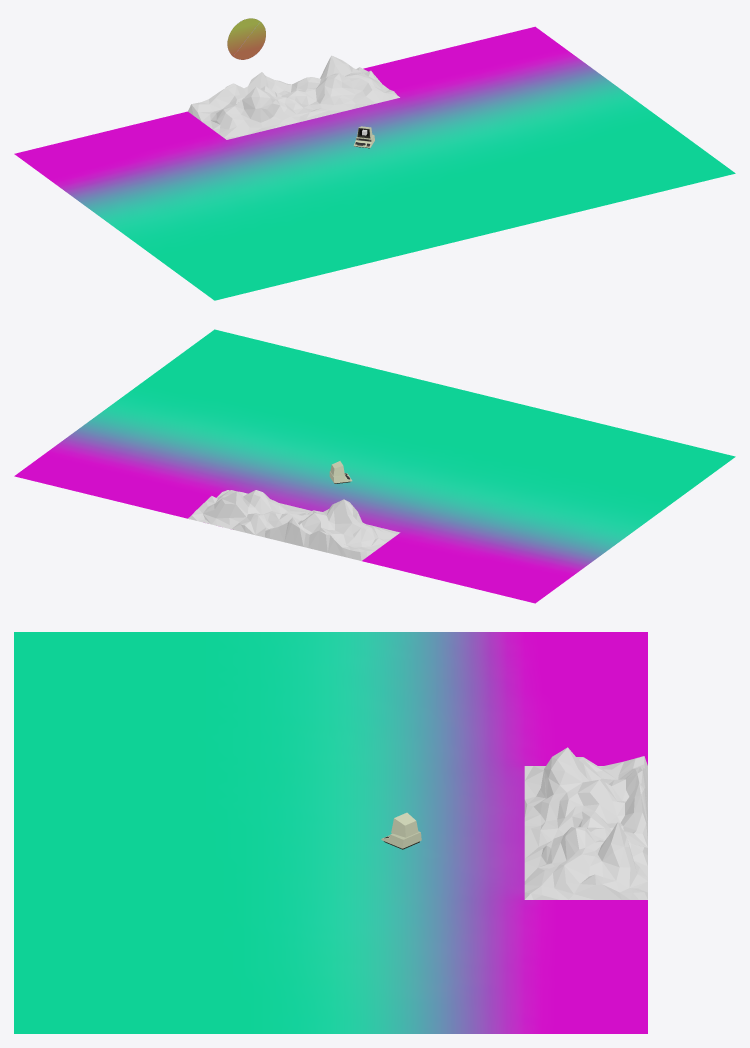
Rendered from computer.gltf.
The picture shows the model from 3 angles, top to bottom: view 1: azimuth 30°, elevation 25°; view 2: azimuth 150°, elevation 25°; view 3: azimuth 270°, elevation 25°; orthographic projection. The views are drawn at different scales.
Visible parts, largest first — view 1: Grid, Mountain.Wireframe, Sun; view 2: Grid, Mountain.Wireframe; view 3: Grid, Mountain.Wireframe, Computer.
Part boxes in pixels (x1,y1,x2,y2): Grid: (14, 26, 735, 300); Mountain.Wireframe: (188, 55, 399, 139); Sun: (227, 18, 265, 59); Grid: (14, 329, 735, 603); Mountain.Wireframe: (188, 490, 400, 560); Grid: (14, 632, 647, 1033); Mountain.Wireframe: (524, 747, 647, 899); Computer: (381, 812, 421, 849).
Size of what is drawn, in the model's own units: 108 by 10.1 by 82.
4 materials, 2 textured.
